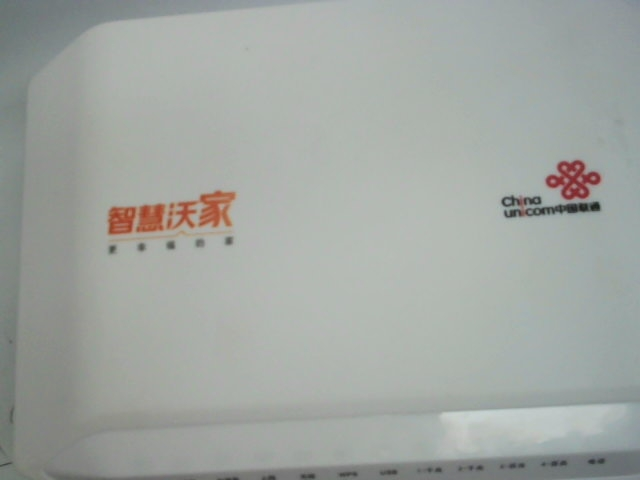AC_ChinaUnicom: (468, 145, 621, 227)
